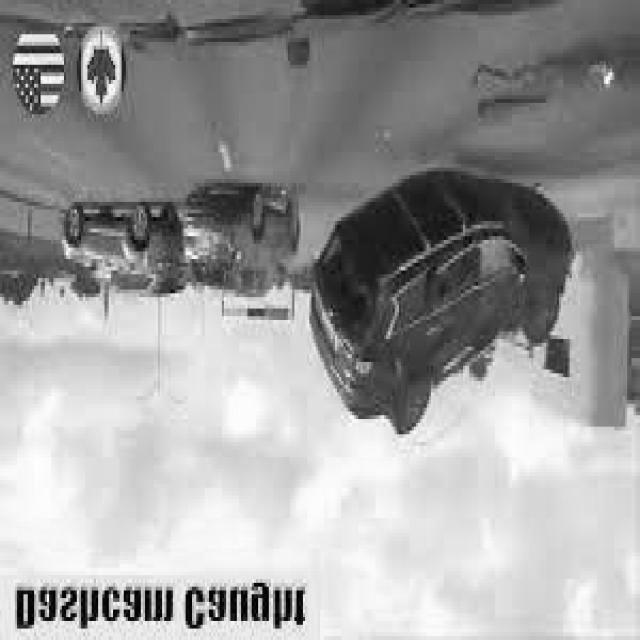severe: (304, 170, 577, 452)
